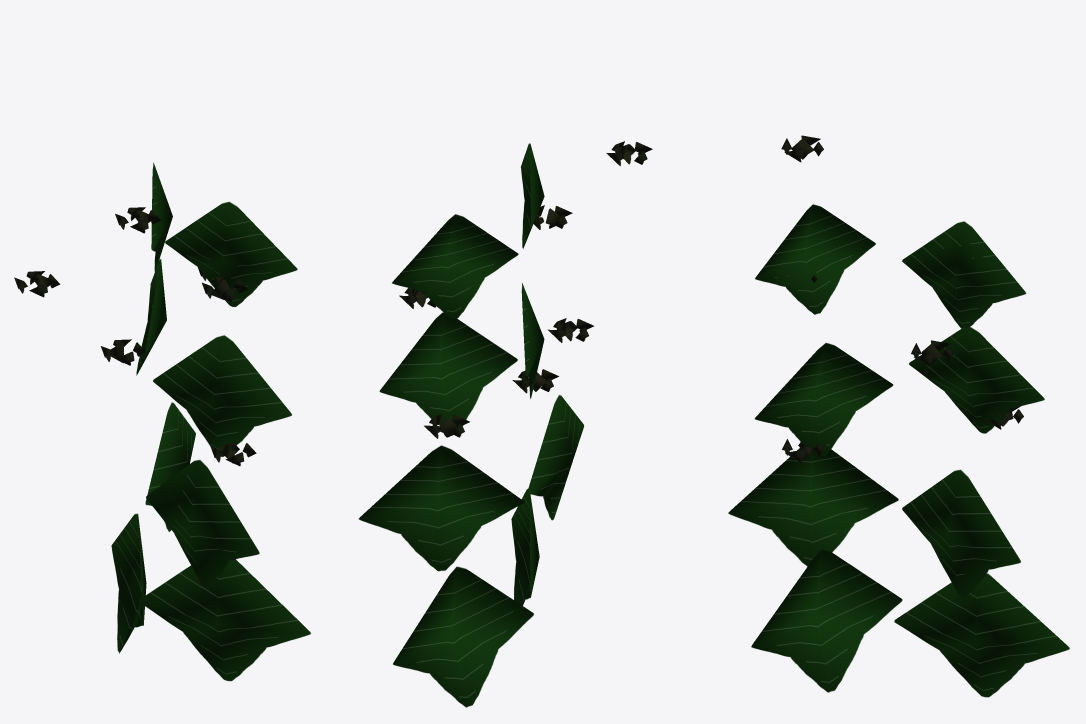
Rendered from Herb_Burdock.glb.
3 renders of one model, left to right at view 1: azimuth 30°, elevation 25°; view 2: azimuth 150°, elevation 25°; view 3: azimuth 270°, elevation 25°, orthographic. The views are drawn at different scales.
Visible parts, largest first — view 1: Herb_Burdock; view 2: Herb_Burdock; view 3: Herb_Burdock.
Boxes of the visible parts, x1,y1,x2,y2 form: Herb_Burdock: (14,162,310,681); Herb_Burdock: (359,141,652,707); Herb_Burdock: (728,135,1069,697).
Size of the model in its own units: 0.5195 by 1.2 by 0.5506.
Materials: 1 (1 with a texture image).
